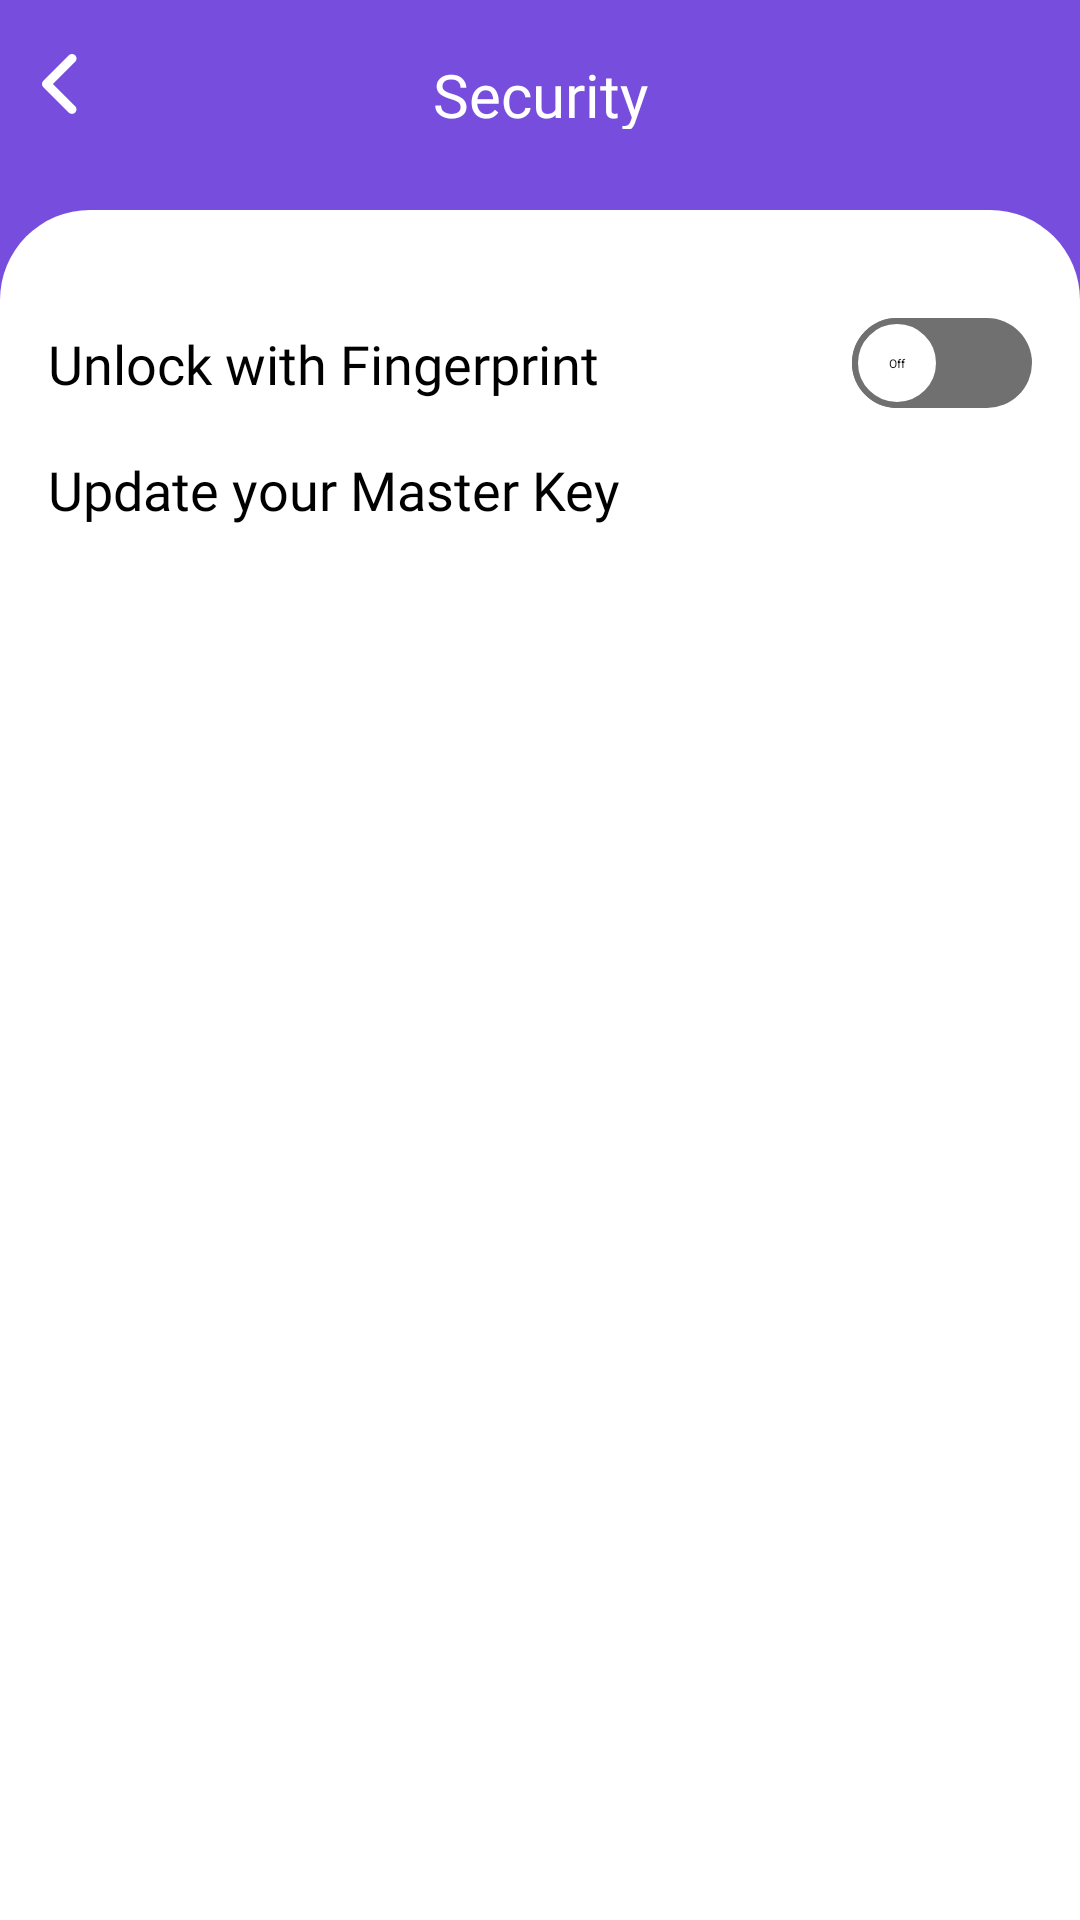

Icons on this 1080px×1920px Android screen, each with its box as (x1,y1,x2,y2):
back: (42,54,77,114)
